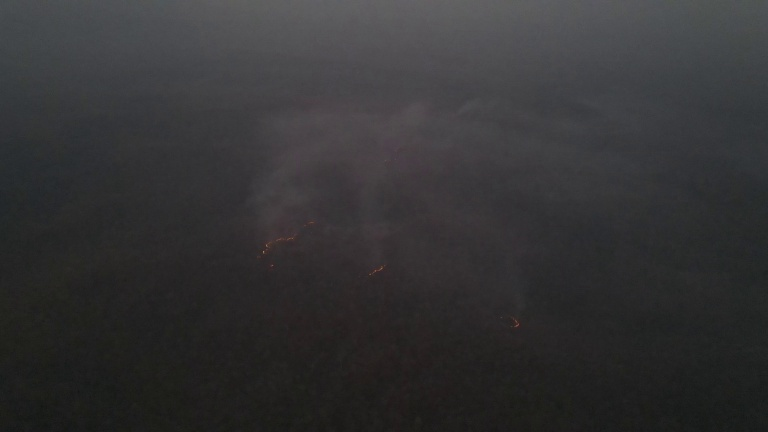fire: (256, 235, 301, 268), (500, 310, 527, 331), (366, 259, 386, 282), (297, 217, 318, 229)
smoke: (247, 105, 419, 255)
